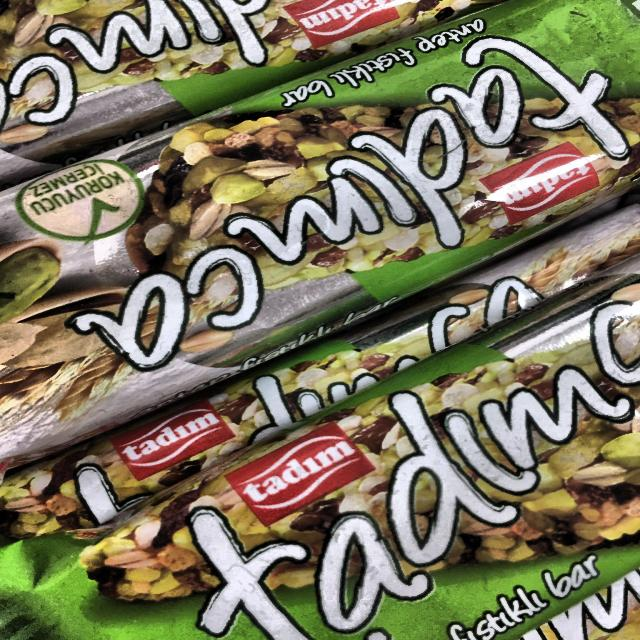Plastic: (2, 0, 638, 471), (7, 243, 638, 638)
